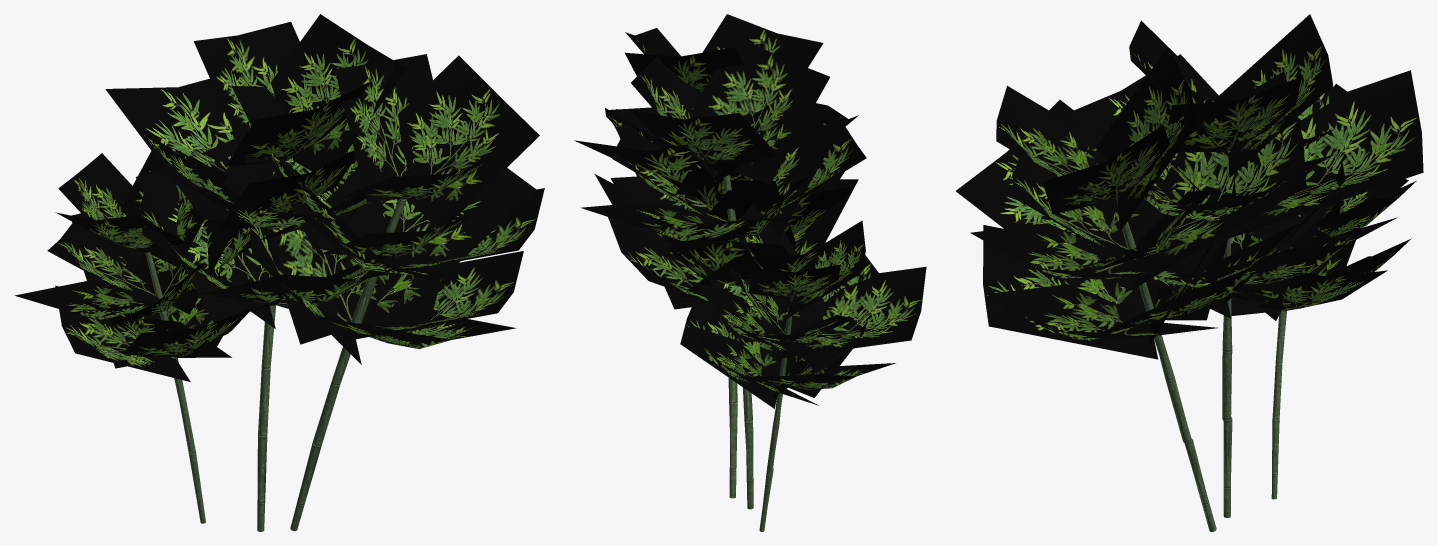
Rendered from Bamboo01.DAE.
The picture shows the model from 3 angles, left to right: view 1: azimuth 30°, elevation 25°; view 2: azimuth 150°, elevation 25°; view 3: azimuth 270°, elevation 25°; orthographic projection. The views are drawn at different scales.
Parts seen in each view (by area): view 1: BambooOne256, BambooOne128, BambooOne80; view 2: BambooOne256, BambooOne128, BambooOne80; view 3: BambooOne256, BambooOne128, BambooOne80.
Boxes of the visible parts, x1,y1,x2,y2 form: BambooOne256: (14, 14, 544, 531); BambooOne128: (18, 23, 538, 531); BambooOne80: (15, 23, 537, 525); BambooOne256: (574, 14, 926, 531); BambooOne128: (583, 29, 908, 530); BambooOne80: (596, 34, 910, 467); BambooOne256: (956, 14, 1423, 531); BambooOne128: (972, 21, 1420, 527); BambooOne80: (974, 27, 1406, 526).
Size of what is drawn, in the model's own units: 584 by 523 by 609.
